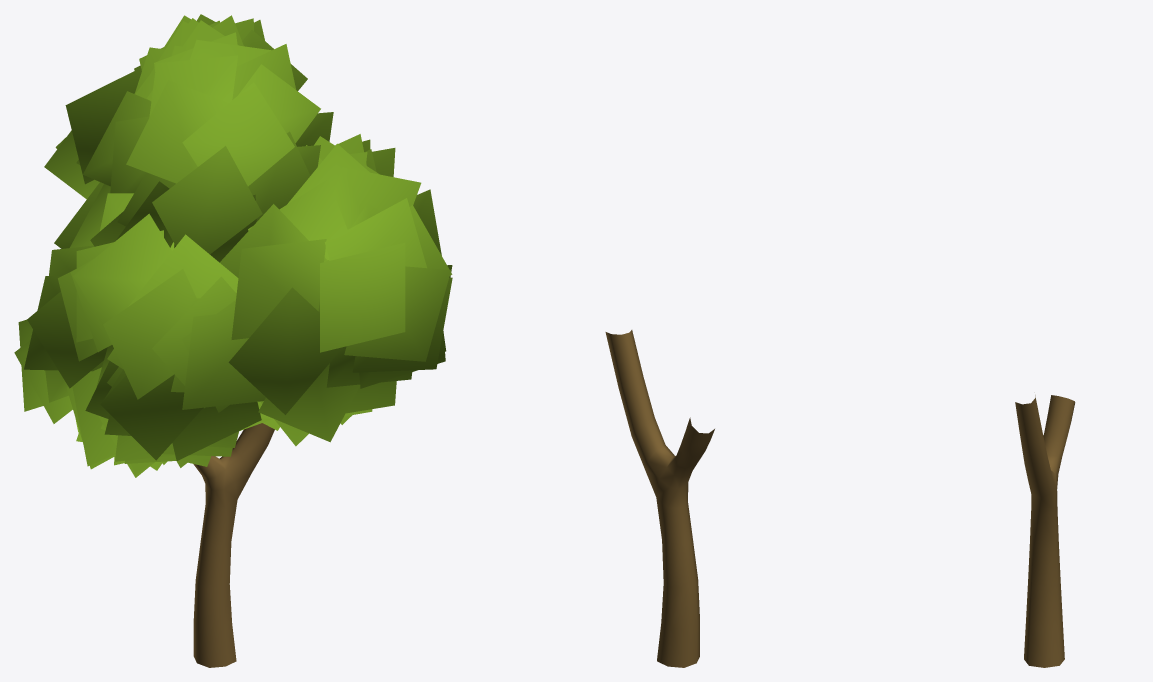
The model's file is MapleFlat.glb.
3 renders of one model, left to right at view 1: azimuth 30°, elevation 25°; view 2: azimuth 150°, elevation 25°; view 3: azimuth 270°, elevation 25°, orthographic. The views are drawn at different scales.
Parts seen in each view (by area): view 1: mapleFoliageV2, maple; view 2: maple; view 3: maple.
Part boxes in pixels (x1,y1,x2,y2): mapleFoliageV2: (14, 14, 452, 477); maple: (193, 423, 274, 667); maple: (605, 330, 714, 667); maple: (1015, 395, 1075, 667).
Bounding box in the file's own units: 4.25 × 6.48 × 2.15.
